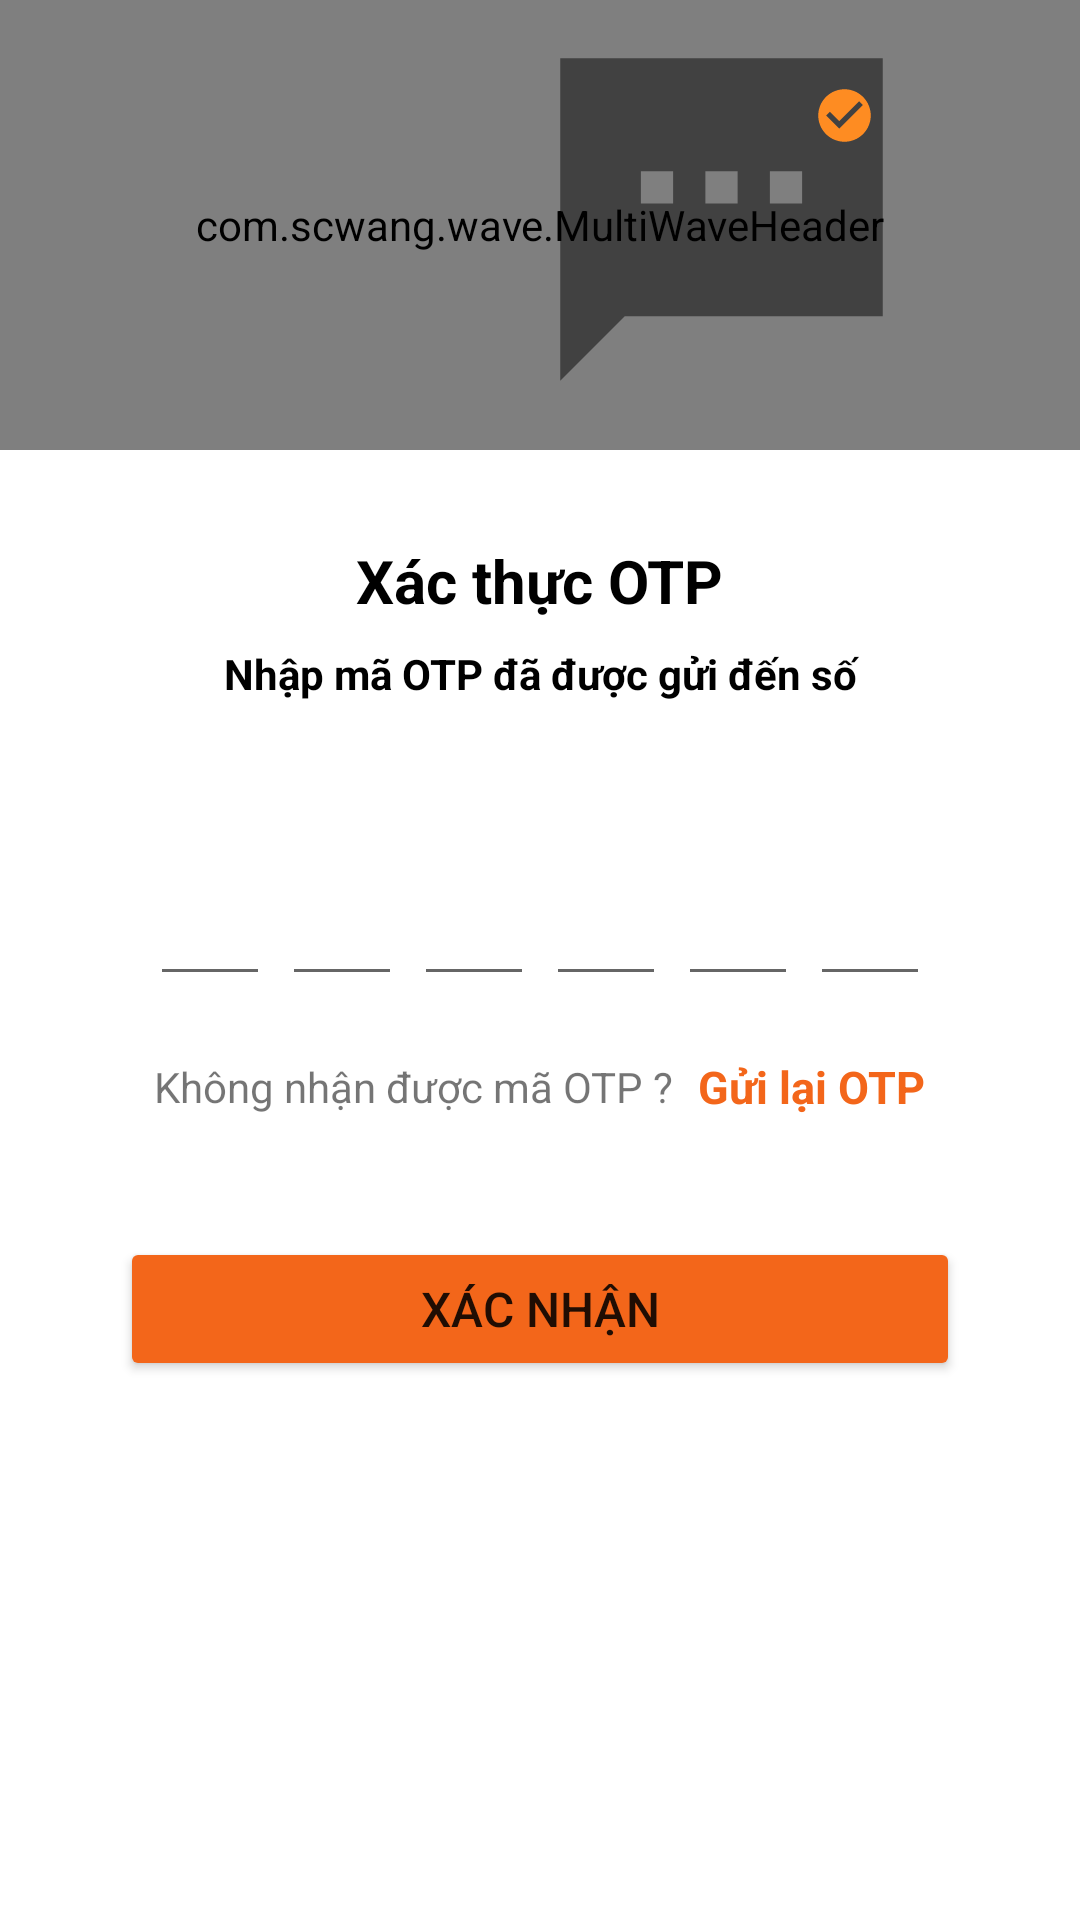

Icon click points for this 1080px×1920px phone screenshot, format (x,y):
check circle: (844,115)
